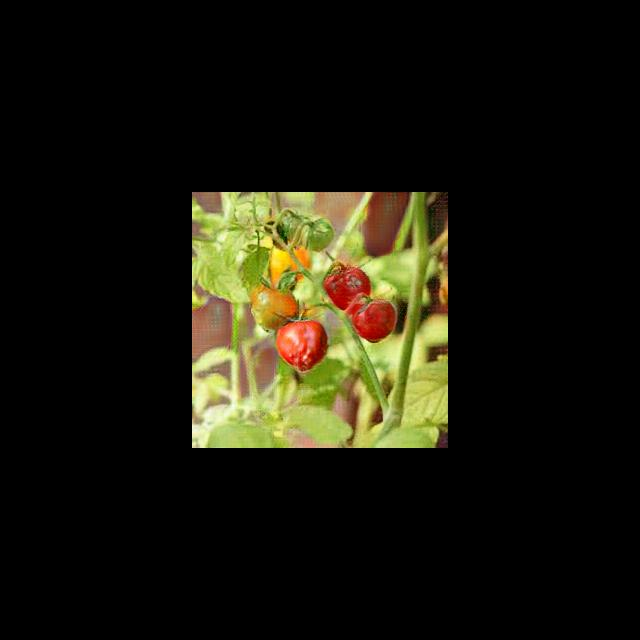tomato: (277, 317, 327, 374), (350, 299, 400, 344), (325, 265, 366, 312)
